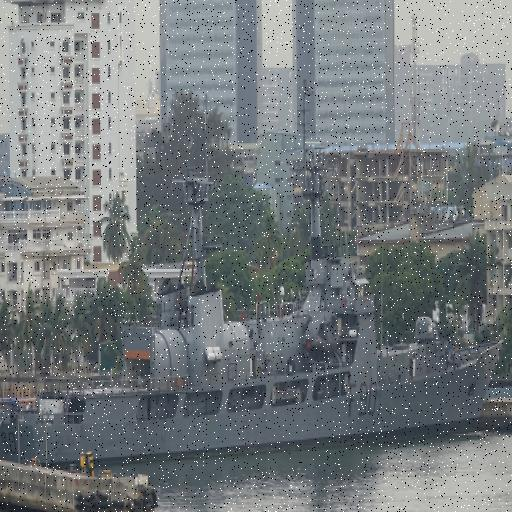Fragata: (1, 131, 508, 474)
